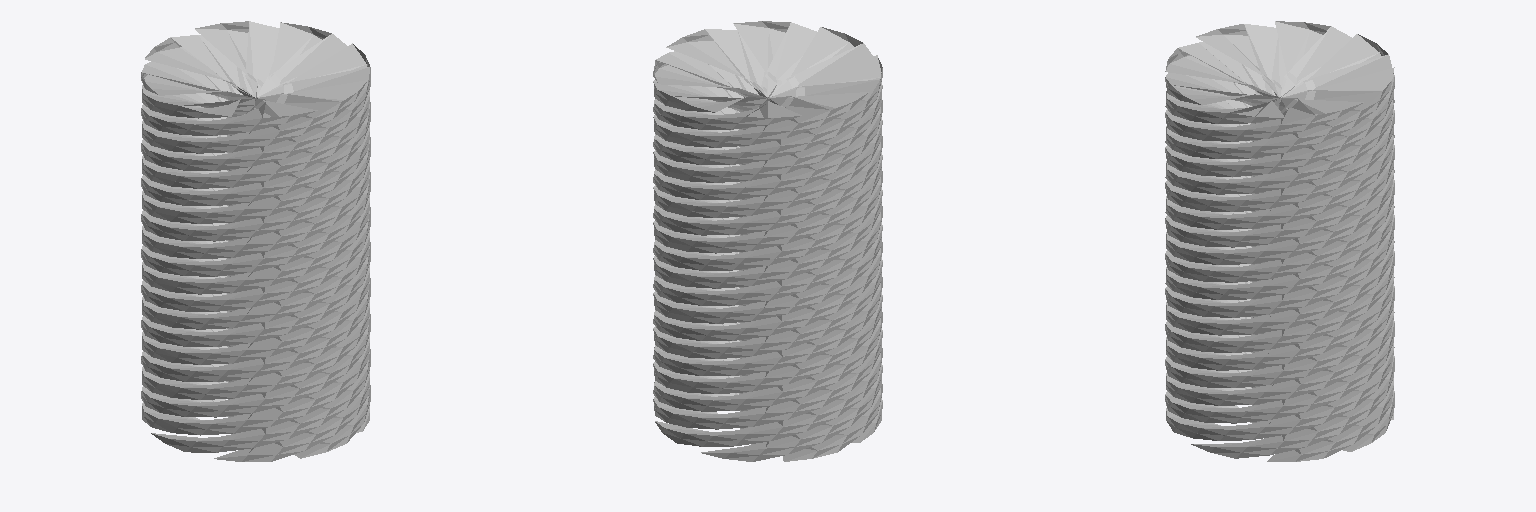
File: ScrewTornadoThing.obj
3 renders of one model, left to right at view 1: azimuth 30°, elevation 25°; view 2: azimuth 150°, elevation 25°; view 3: azimuth 270°, elevation 25°, orthographic.
Parts seen in each view (by area): view 1: Worm_Gear; view 2: Worm_Gear; view 3: Worm_Gear.
Part boxes in pixels (x1,y1,x2,y2): Worm_Gear: (141, 21, 370, 461); Worm_Gear: (653, 21, 882, 461); Worm_Gear: (1165, 21, 1394, 461).
Bounding box in the file's own units: 15.98 × 28.63 × 15.98.